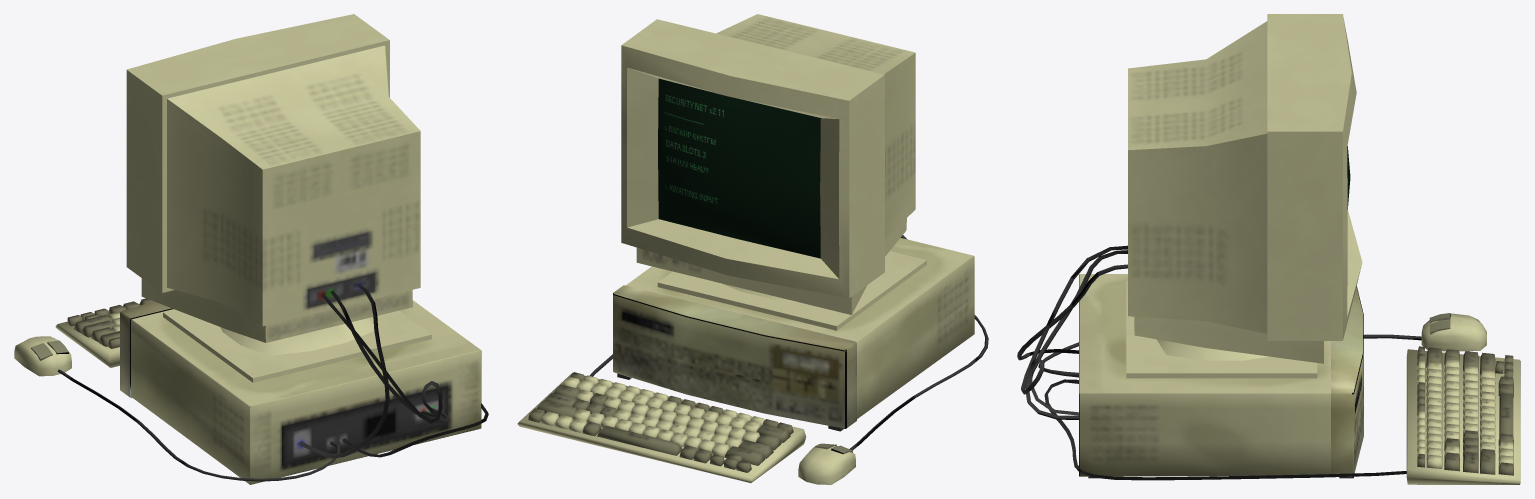
The model's file is SM_SavePC_Retro.fbx.
3 views of the same model, side by side, from view 1: azimuth 30°, elevation 25°; view 2: azimuth 150°, elevation 25°; view 3: azimuth 270°, elevation 25° (orthographic). The views are drawn at different scales.
Visible parts, largest first — view 1: SM_SavePC_Retro; view 2: SM_SavePC_Retro; view 3: SM_SavePC_Retro.
Part boxes in pixels (x1,y1,x2,y2): SM_SavePC_Retro: (14,14,488,484); SM_SavePC_Retro: (517,14,988,484); SM_SavePC_Retro: (1017,14,1520,484).
Bounding box in the file's own units: 0.5409 × 0.5672 × 0.7459.
2 materials, 2 textured.
